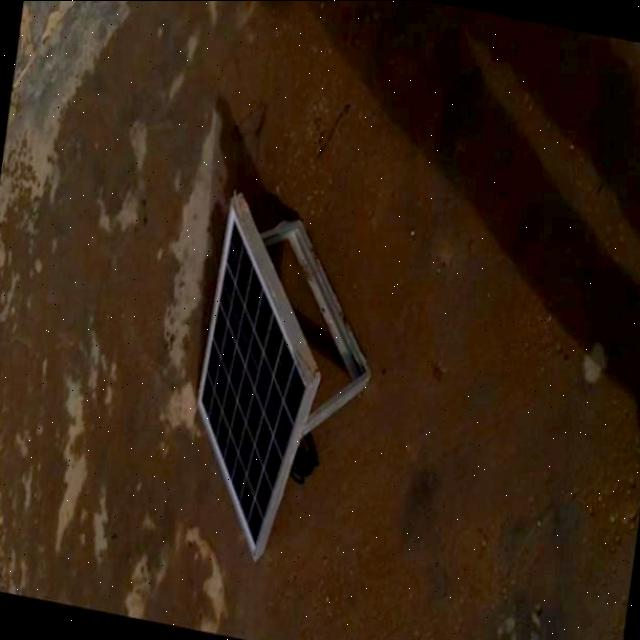Normal Solar Panel: (162, 188, 352, 564)
